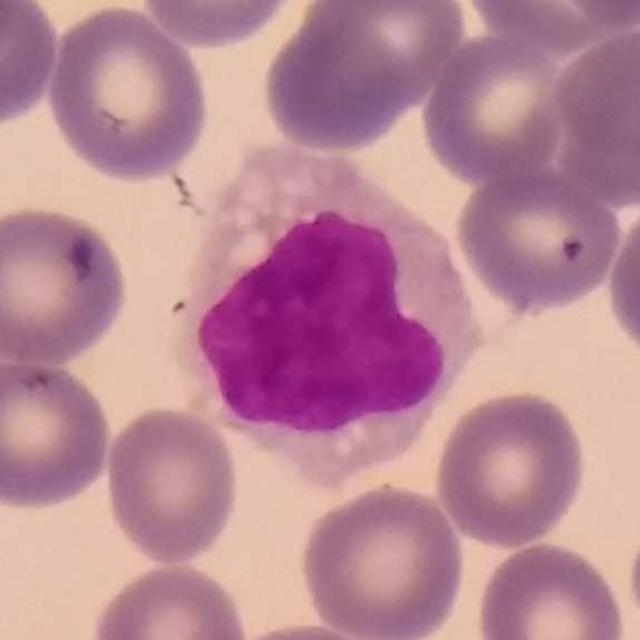Monocyte: (172, 140, 488, 484)
RBC: (259, 0, 470, 151), (37, 0, 208, 183), (295, 478, 469, 640), (451, 165, 629, 316), (432, 386, 591, 551), (418, 39, 573, 201), (99, 402, 244, 569), (0, 199, 132, 368), (0, 355, 116, 513), (550, 20, 640, 205), (472, 537, 630, 640), (84, 557, 251, 640), (460, 0, 637, 52), (136, 0, 306, 51), (0, 0, 63, 131), (602, 189, 640, 372), (222, 619, 396, 640), (553, 0, 640, 30)
